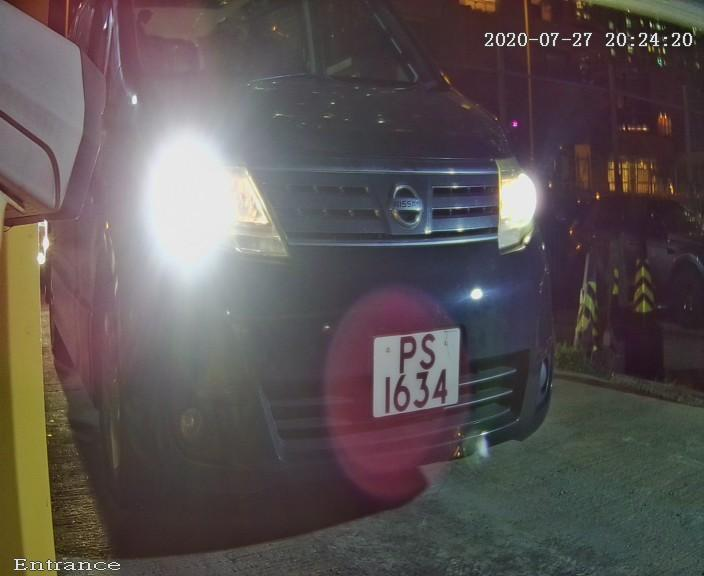privatecar: (76, 1, 591, 541)
